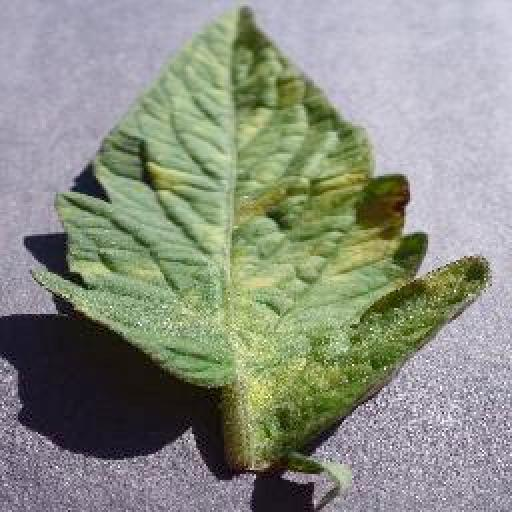disease_tomato: (34, 4, 492, 448)
